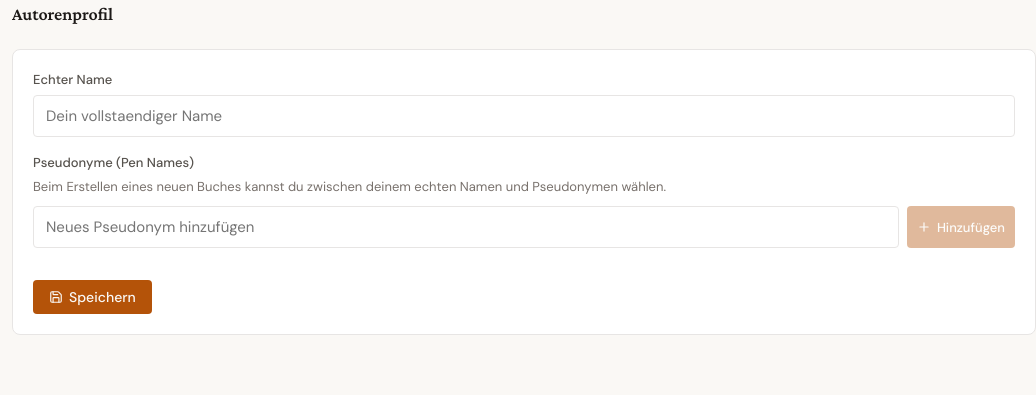
Scenario: AuthorSettings › adds a pen-name on Enter
The width and height of the screenshot is (1036, 395).
In the field with test id "author-pen-name-input": (466,227) [33,206,899,248], type "EnterPseudo"
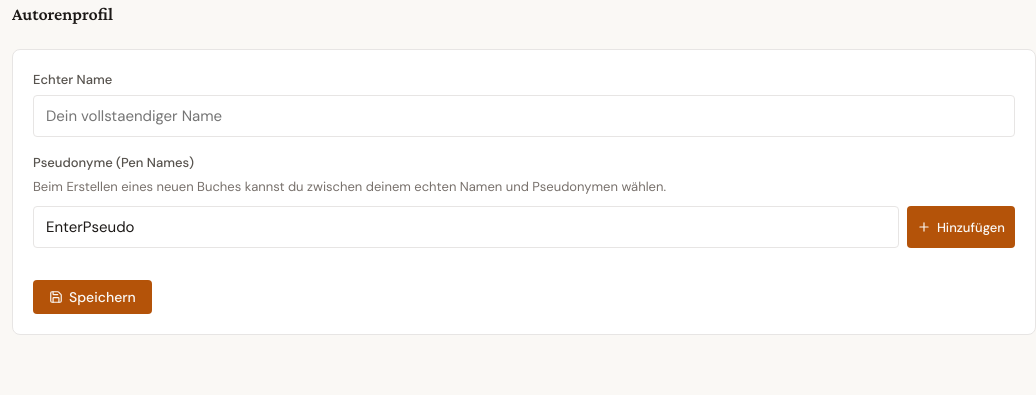
Press Enter in the field with test id "author-pen-name-input", box [33,206,899,248]
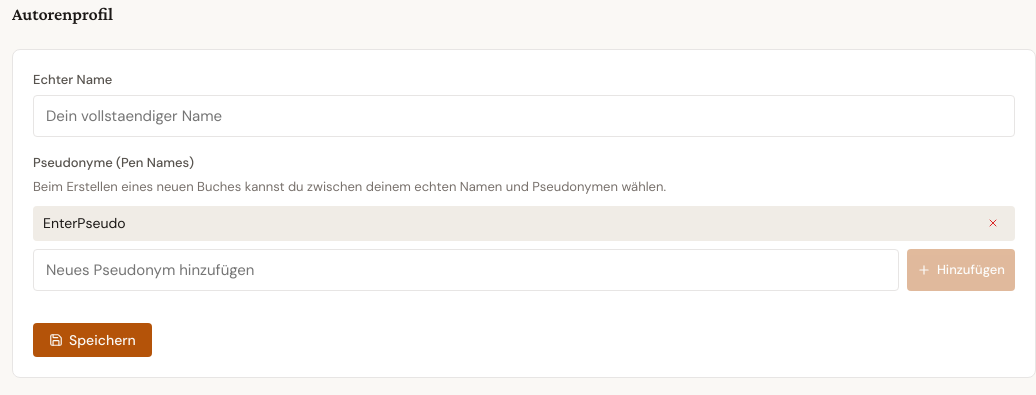
Check: the element with test id "author-pen-name-0" reads "EnterPseudo", box [43,214,126,232]
